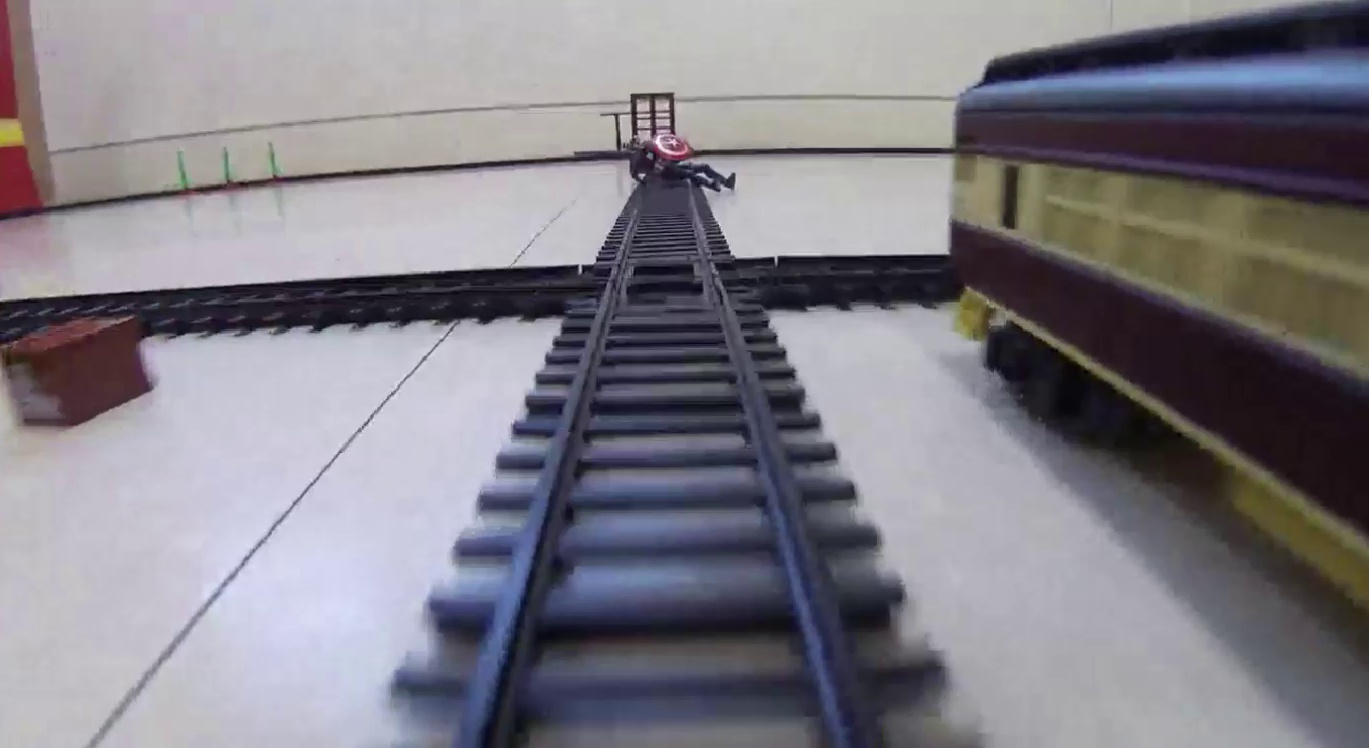box: (2, 311, 162, 432)
people: (619, 134, 738, 193)
